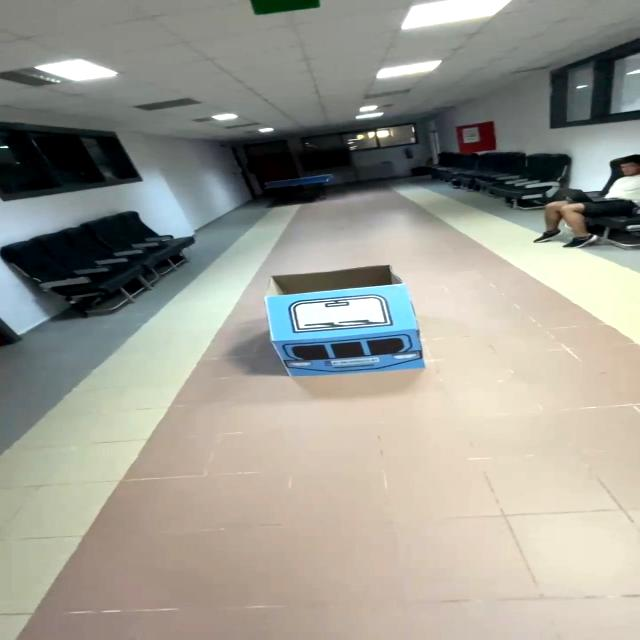blue_car: (238, 256, 465, 384)
